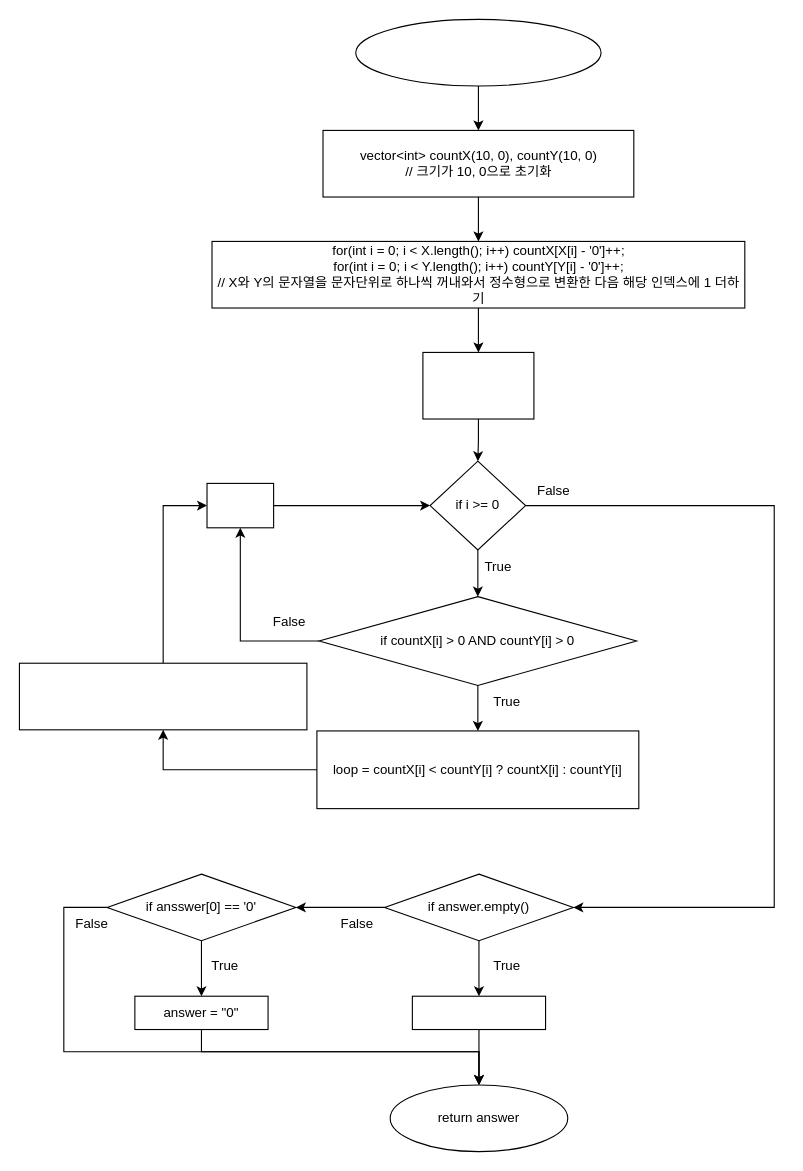
The diagram is 803 pixels wide and 1171 high, and some of its shapes have lost their labels. The shapes that lost their labels are listed below. From the top down, each one's centre as x and y in pixels, then its label:
(478,52): solution(string X, string Y)
(478,385): string answer int loop int i = 9
(240,505): i--
(162,696): for (int j = 0; j < loop; j++) answer += to_string(i)
(478,1012): answer = "-1"
